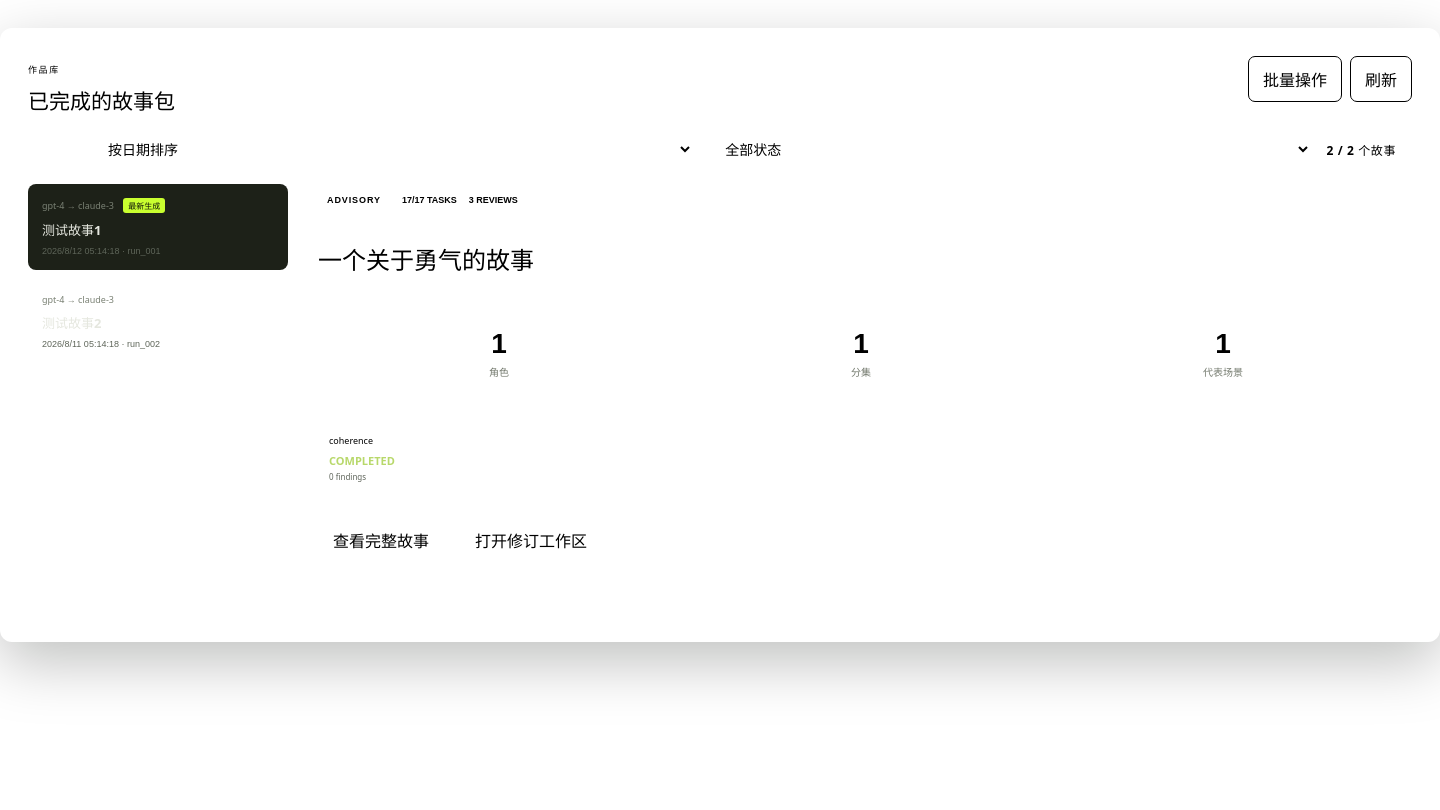
it: ArtifactBrowser › 批量操作 › 应该进入批量模式
The width and height of the screenshot is (1440, 810).
Click the button "批量操作": [1295, 79] box [1248,56,1342,102]
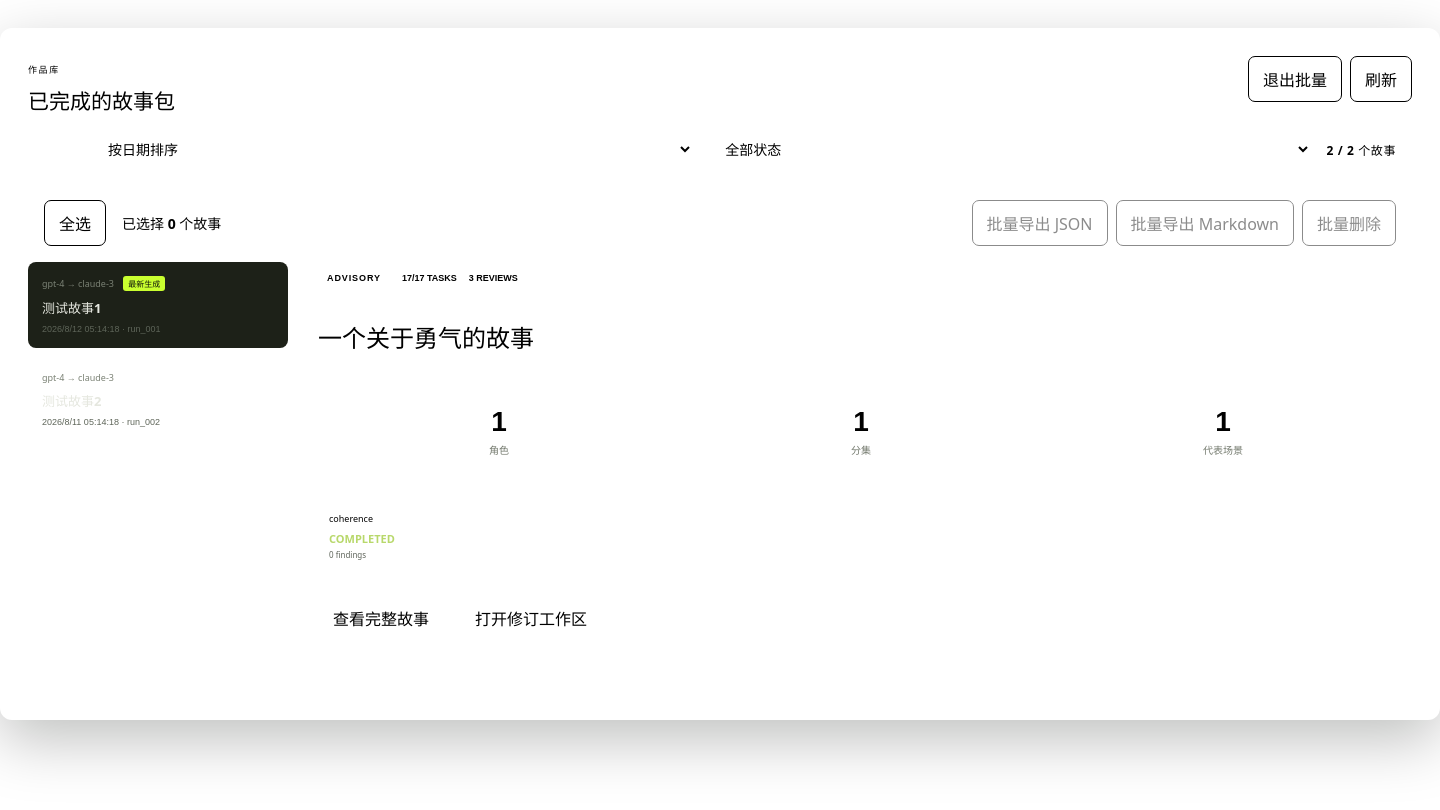
Check: the button "退出批量" is shown, box [1248,56,1342,102]
Check: the button "全选" is shown, box [44,200,106,246]
